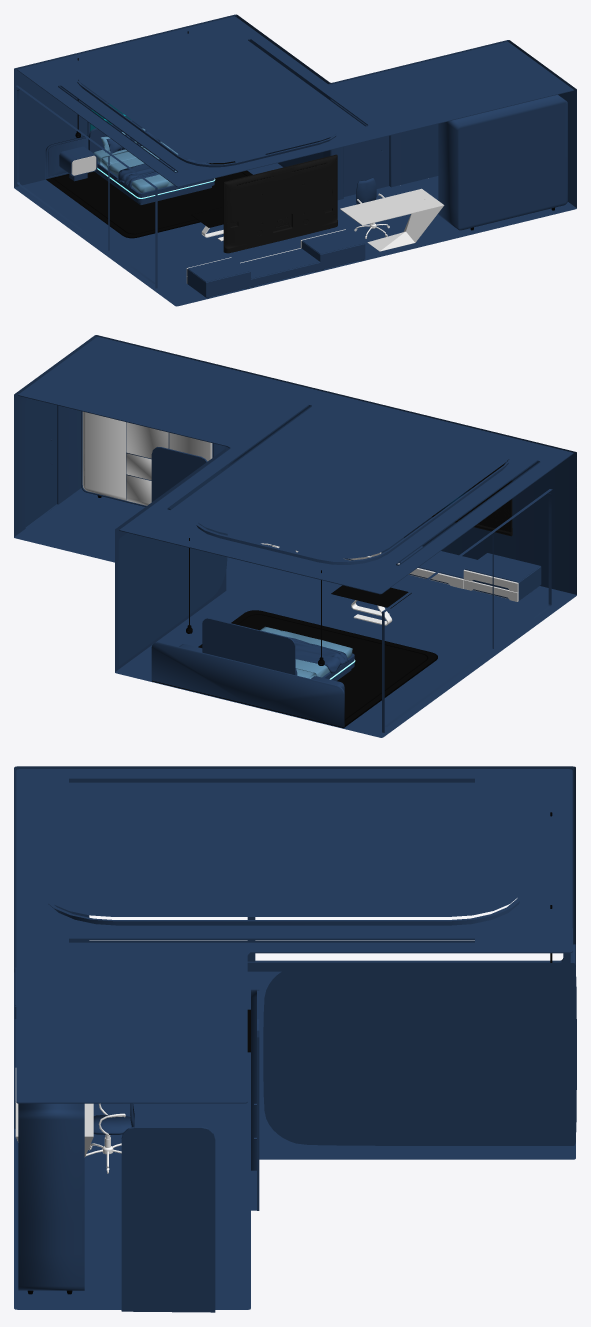
Rendered from Room_.glb.
3 renders of one model, top to bottom at view 1: azimuth 30°, elevation 25°; view 2: azimuth 150°, elevation 25°; view 3: azimuth 270°, elevation 25°, orthographic. The views are drawn at different scales.
Parts seen in each view (by area): view 1: Estructure, Closet, TV, Carpet_Room, TV_Table, Desk, Bath_Door, Bed_Head_01, Sheet_01, NightTable_02, Bed Head_02, Sheet_02 (+3 smaller); view 2: Estructure, Room_Wall, Bed Head_02, Closet, Carpet_Room, TV_Table, Entrance_Door, Bed_Head_Light, Bath_Door, Table, Sheet_01, TV (+1 smaller); view 3: Estructure, Room_Wall, Entrance_Door, Closet, Chair_01, Bath_Door.
Boxes of the visible parts, bbox=[...] form: Estructure: bbox=[14, 14, 576, 306]; Closet: bbox=[438, 94, 567, 230]; TV: bbox=[223, 154, 337, 253]; Carpet_Room: bbox=[46, 161, 252, 238]; TV_Table: bbox=[186, 229, 365, 298]; Desk: bbox=[340, 188, 444, 251]; Bath_Door: bbox=[343, 108, 389, 196]; Bed_Head_01: bbox=[88, 119, 214, 204]; Sheet_01: bbox=[93, 141, 178, 192]; NightTable_02: bbox=[59, 146, 97, 181]; Bed Head_02: bbox=[45, 135, 87, 179]; Sheet_02: bbox=[116, 154, 210, 188]; Estructure: bbox=[14, 335, 576, 737]; Room_Wall: bbox=[118, 470, 227, 665]; Bed Head_02: bbox=[151, 642, 344, 727]; Closet: bbox=[81, 411, 236, 506]; Carpet_Room: bbox=[152, 610, 437, 728]; TV_Table: bbox=[343, 537, 541, 601]; Entrance_Door: bbox=[25, 398, 56, 526]; Bed_Head_Light: bbox=[202, 618, 295, 675]; Bath_Door: bbox=[151, 447, 207, 501]; Table: bbox=[331, 585, 411, 625]; Sheet_01: bbox=[260, 626, 352, 678]; TV: bbox=[432, 459, 512, 536]; Estructure: bbox=[14, 766, 575, 1310]; Room_Wall: bbox=[263, 963, 576, 1145]; Entrance_Door: bbox=[121, 1126, 215, 1312]; Closet: bbox=[18, 1103, 84, 1294]; Chair_01: bbox=[93, 1103, 134, 1154]; Bath_Door: bbox=[254, 989, 259, 1210].
Bounding box in the file's own units: 11.42 × 3.36 × 7.98.
Materials: 13 (2 with a texture image).
